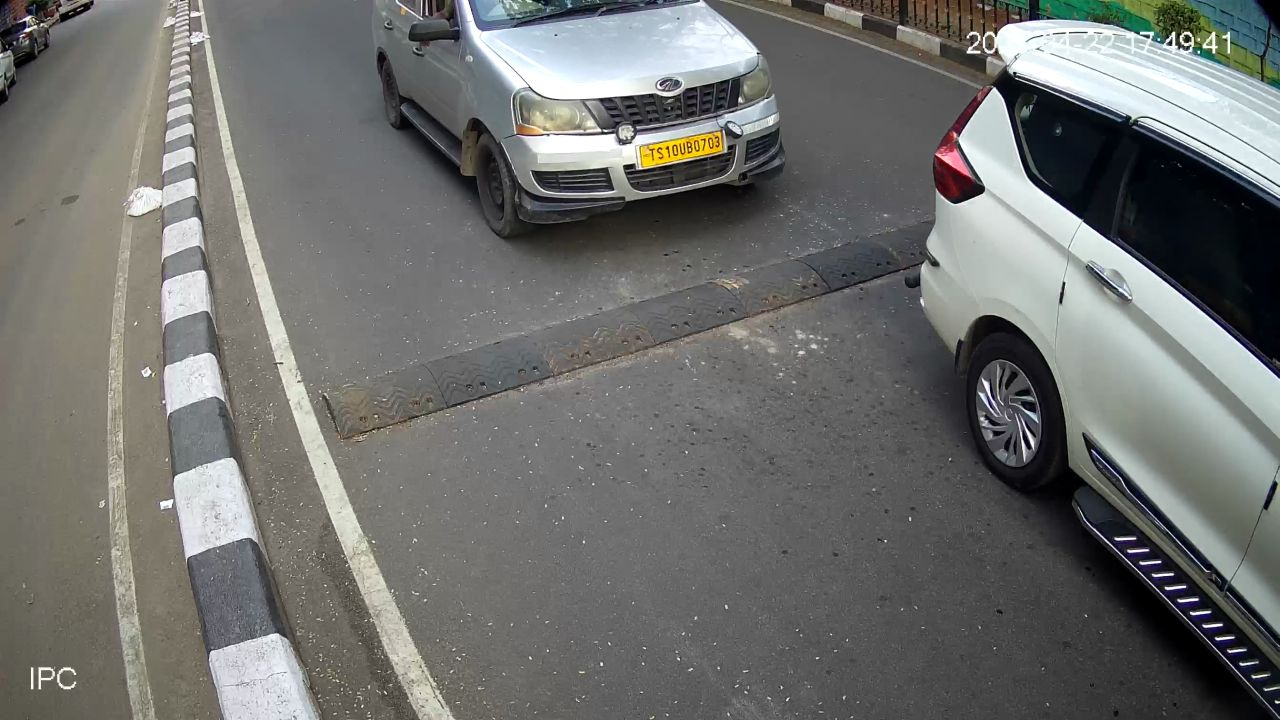license_plate: (631, 122, 729, 182)
